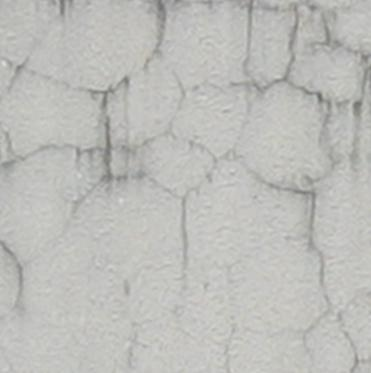fissura: (4, 3, 371, 373)
